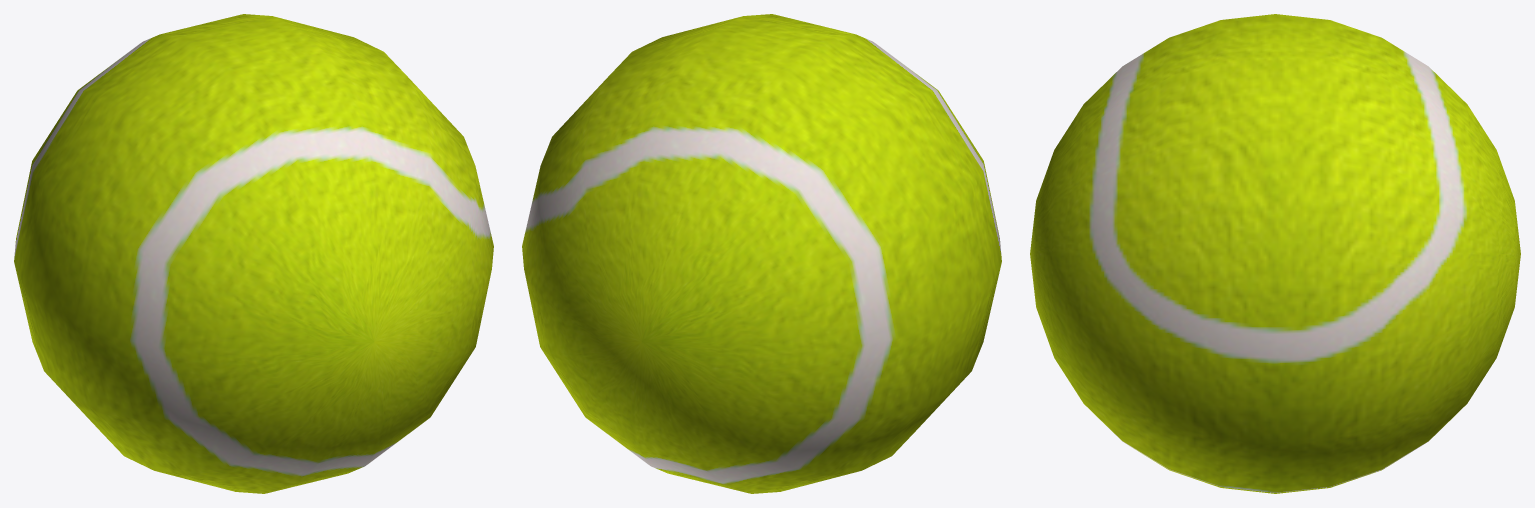
The model's file is Tennis_ball.fbx.
The picture shows the model from 3 angles, left to right: view 1: azimuth 30°, elevation 25°; view 2: azimuth 150°, elevation 25°; view 3: azimuth 270°, elevation 25°; orthographic projection. The views are drawn at different scales.
Visible parts, largest first — view 1: Tennis_ball1; view 2: Tennis_ball1; view 3: Tennis_ball1.
Boxes of the visible parts, x1,y1,x2,y2 form: Tennis_ball1: (14, 14, 493, 493); Tennis_ball1: (522, 14, 1001, 493); Tennis_ball1: (1030, 14, 1520, 493).
Bounding box in the file's own units: 5.14 × 5.01 × 5.14.
Materials: 1 (1 with a texture image).
